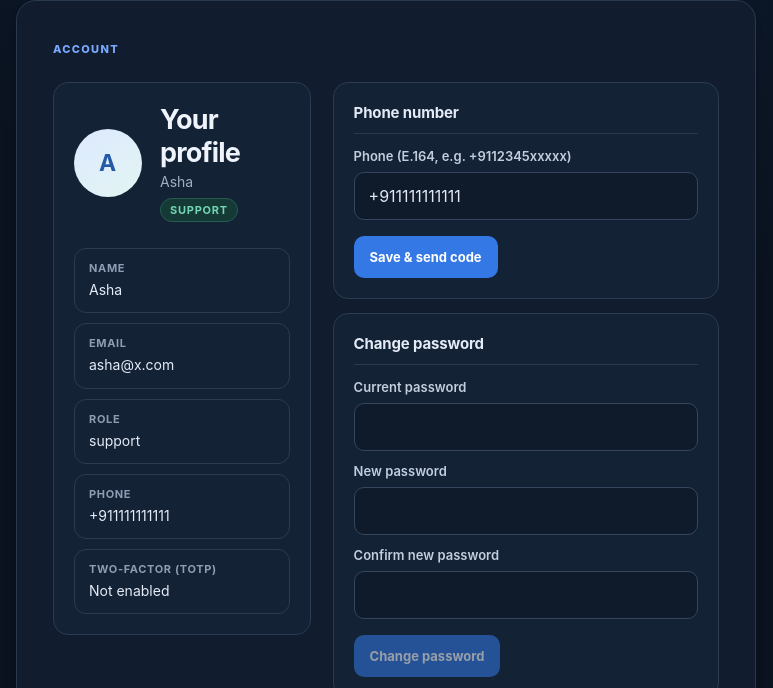
Test case: ProfilePanel › saves a phone number and sends a verification code, then verifies
The image size is (773, 688).
Expected: the text "Not enabled" is shown, [89,582,170,599]
Replace the text in the field labelled "Phone (E.164, e.g. +9112345xxxxx)" with "+919999999999" at (526,196), box [354,172,698,220]
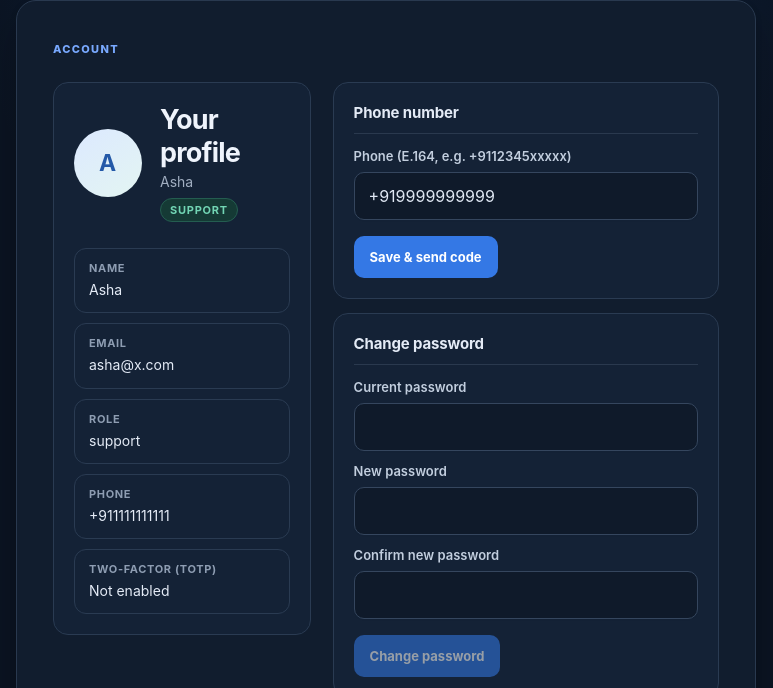
Click the button "Save & send code" at (426,257), box [354,236,498,278]
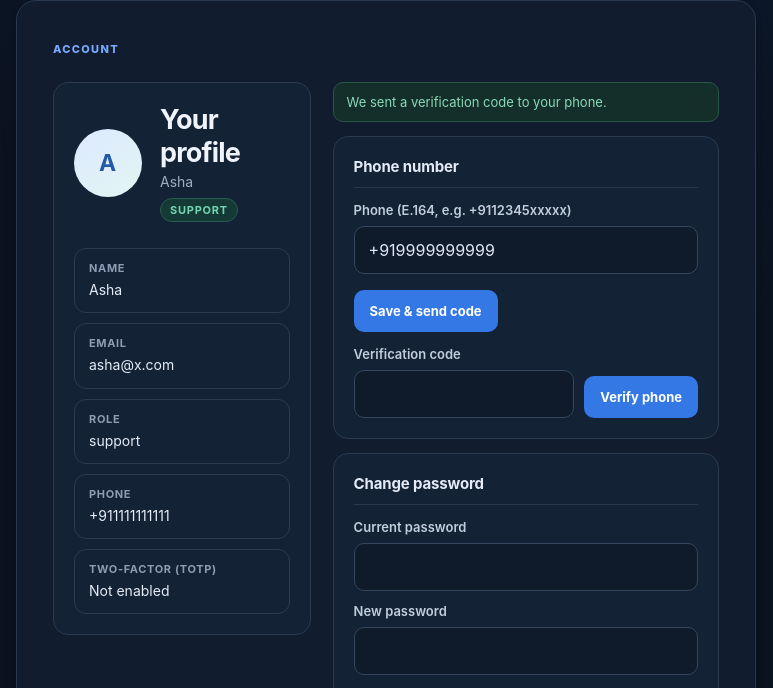
Type "123456" into the field labelled "Verification code" at (464,394), box [354,370,574,418]
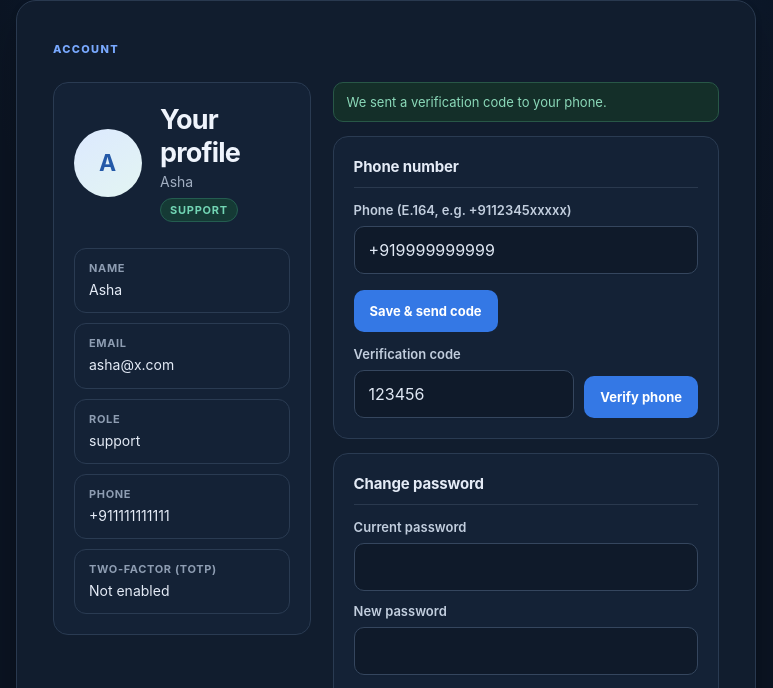
Click the button "Verify phone" at (641,397), box [584,376,698,418]
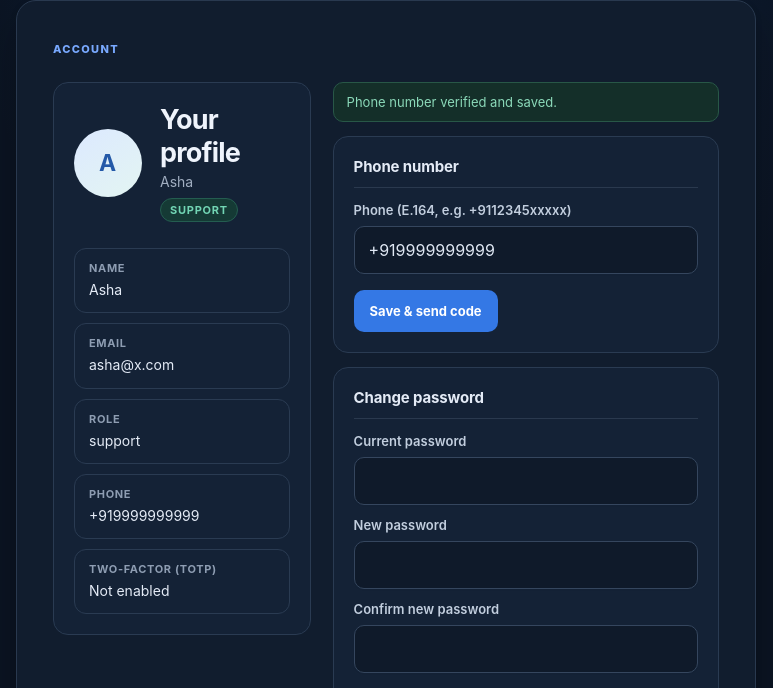
Expected: the text "+919999999999" is shown, [89,507,200,524]
Expected: the text "Phone number verified and saved." is shown, [333,82,719,122]
